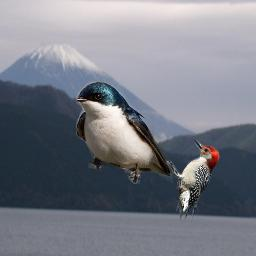Swallow: (76, 81, 173, 184)
Woodpecker: (163, 137, 221, 223)
